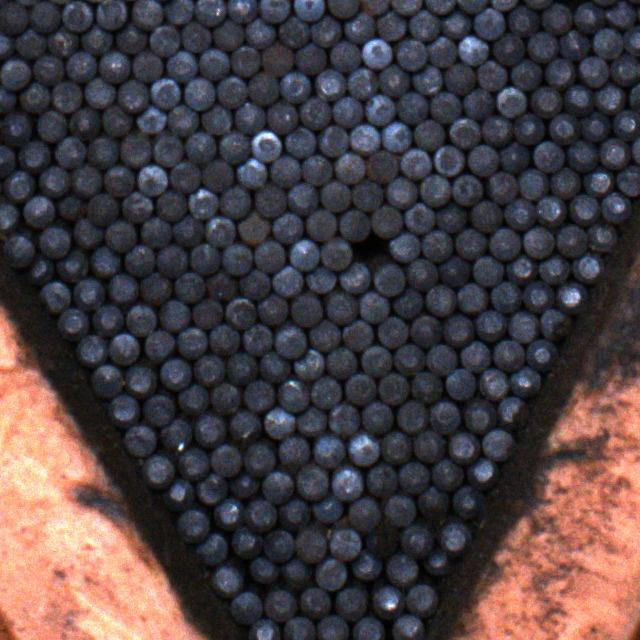tool: (264, 586, 299, 622), (140, 453, 175, 489), (87, 364, 123, 399), (328, 526, 363, 561), (440, 312, 475, 347), (348, 494, 382, 530), (240, 441, 276, 475), (274, 323, 308, 359), (553, 280, 589, 314), (118, 132, 152, 168), (470, 6, 506, 40), (381, 428, 414, 465), (383, 552, 418, 586), (311, 434, 346, 468), (462, 397, 496, 432), (106, 392, 140, 427), (235, 210, 270, 244), (67, 162, 102, 196), (151, 132, 185, 167), (397, 526, 434, 558), (174, 448, 211, 480), (175, 508, 209, 542), (278, 498, 312, 532), (328, 466, 362, 500), (346, 432, 380, 466), (496, 396, 530, 430), (360, 400, 394, 434), (290, 293, 324, 327), (324, 290, 358, 324), (122, 243, 156, 277), (570, 251, 604, 285), (403, 585, 438, 618), (296, 467, 329, 502), (160, 477, 195, 510), (171, 212, 204, 247), (120, 425, 156, 457), (240, 380, 276, 412), (336, 260, 372, 292), (191, 533, 228, 564), (124, 363, 155, 400), (209, 565, 243, 598), (314, 558, 348, 591), (394, 400, 428, 433), (37, 280, 71, 313), (237, 267, 271, 300), (54, 248, 88, 281), (287, 238, 321, 271), (338, 208, 371, 242), (36, 165, 69, 199), (554, 224, 588, 257), (277, 15, 311, 48), (294, 528, 326, 563), (382, 494, 417, 526), (448, 430, 480, 465), (342, 373, 377, 405), (103, 220, 138, 252), (103, 163, 135, 198), (398, 148, 433, 180), (310, 12, 342, 47), (505, 4, 540, 36), (538, 309, 574, 340), (229, 591, 262, 624), (452, 485, 485, 518), (482, 427, 515, 460), (193, 413, 226, 446), (256, 294, 289, 327), (105, 273, 138, 306), (420, 230, 453, 263), (485, 171, 518, 204), (336, 586, 368, 620), (372, 585, 404, 619), (438, 522, 470, 556), (242, 500, 276, 532), (396, 461, 430, 493), (263, 407, 297, 439), (141, 394, 175, 426), (158, 357, 190, 391), (375, 316, 409, 348), (409, 313, 441, 347), (490, 280, 522, 314), (138, 272, 172, 304), (372, 264, 406, 296), (88, 246, 122, 278), (154, 244, 188, 276), (252, 240, 286, 272), (370, 204, 402, 238), (134, 164, 168, 196), (86, 134, 118, 168), (0, 112, 32, 146), (266, 100, 298, 134), (49, 80, 83, 112), (522, 224, 554, 258), (532, 140, 566, 172), (442, 62, 476, 94), (509, 58, 543, 90), (97, 51, 131, 83), (261, 42, 293, 76), (294, 42, 328, 74), (407, 8, 441, 40), (36, 228, 71, 259), (492, 86, 527, 117), (0, 56, 31, 91), (230, 527, 263, 559), (432, 457, 464, 490), (327, 404, 360, 436), (228, 408, 260, 441), (410, 370, 443, 402), (478, 367, 510, 400), (225, 352, 258, 384), (525, 338, 557, 371), (207, 324, 240, 356), (55, 308, 88, 340), (124, 304, 157, 336), (189, 298, 222, 330), (456, 282, 489, 314), (204, 270, 237, 302), (406, 258, 439, 290), (189, 243, 221, 276), (270, 212, 303, 244), (304, 208, 337, 240), (85, 193, 118, 225), (254, 184, 286, 217), (286, 182, 319, 214), (384, 176, 417, 208), (418, 174, 451, 206), (269, 154, 301, 187), (52, 136, 85, 168), (167, 104, 200, 136), (183, 77, 215, 110), (488, 227, 520, 260), (503, 198, 536, 230), (568, 193, 600, 226), (600, 192, 633, 224), (582, 165, 615, 197), (467, 144, 499, 177), (566, 139, 599, 171), (448, 116, 480, 149), (480, 114, 513, 146), (429, 91, 462, 123), (476, 58, 509, 90), (578, 55, 610, 88), (114, 21, 147, 53), (147, 24, 180, 56), (213, 18, 245, 51), (245, 17, 278, 49), (29, 0, 62, 32), (558, 28, 591, 60), (262, 529, 293, 563), (311, 374, 342, 408), (121, 190, 152, 224), (199, 160, 233, 191), (300, 154, 334, 185), (16, 140, 50, 171), (184, 132, 218, 163), (198, 103, 232, 134), (148, 77, 182, 108), (587, 220, 618, 254), (366, 461, 396, 496), (428, 402, 463, 432), (89, 306, 124, 336), (0, 236, 35, 266), (469, 200, 504, 230), (348, 550, 384, 579), (280, 554, 312, 586), (210, 444, 242, 476), (413, 430, 445, 462), (224, 297, 256, 329), (174, 271, 206, 303), (219, 186, 251, 218), (168, 161, 200, 193), (366, 150, 398, 182), (284, 126, 316, 158), (380, 120, 412, 152), (332, 95, 364, 127), (396, 91, 428, 123), (116, 78, 148, 110), (278, 71, 310, 103), (452, 173, 484, 205), (578, 110, 610, 142), (594, 82, 626, 114), (329, 40, 361, 72), (342, 12, 374, 44), (541, 2, 573, 34), (192, 355, 225, 386), (475, 310, 508, 341), (390, 288, 423, 319), (321, 238, 354, 269), (187, 187, 218, 220), (234, 158, 267, 189), (298, 97, 331, 128), (537, 253, 570, 284), (517, 168, 548, 201), (529, 86, 562, 117), (165, 50, 198, 81), (14, 28, 47, 59), (46, 26, 79, 57), (300, 586, 330, 620), (260, 472, 294, 502), (226, 468, 260, 498), (391, 344, 425, 374), (156, 300, 190, 330), (20, 254, 54, 284), (66, 109, 100, 139), (503, 254, 537, 284), (491, 34, 525, 64), (416, 488, 451, 517), (467, 457, 499, 488), (195, 472, 227, 503), (259, 351, 290, 383), (427, 343, 458, 375), (492, 339, 524, 370), (74, 336, 105, 368), (107, 334, 139, 365), (175, 327, 207, 358), (358, 292, 390, 323), (424, 285, 456, 316), (73, 278, 105, 309), (221, 243, 253, 274), (389, 230, 420, 262), (204, 216, 236, 247), (22, 196, 54, 227), (333, 153, 365, 184), (316, 125, 348, 156), (233, 102, 265, 133), (364, 94, 396, 125), (247, 72, 278, 104), (315, 68, 346, 100), (378, 64, 410, 95), (548, 167, 580, 198), (562, 84, 594, 115), (411, 63, 442, 95), (544, 56, 575, 88), (198, 48, 229, 80), (230, 46, 262, 77), (591, 27, 623, 58), (276, 380, 309, 410), (460, 339, 490, 372), (242, 322, 272, 355), (308, 321, 341, 351), (341, 321, 374, 351), (139, 217, 172, 247), (350, 180, 383, 210), (249, 130, 282, 160), (347, 124, 380, 154), (133, 104, 166, 134), (215, 76, 248, 106), (180, 22, 213, 52), (373, 12, 406, 42), (512, 114, 546, 143), (611, 51, 640, 85), (391, 613, 427, 640), (315, 613, 351, 640), (211, 499, 242, 530), (295, 404, 326, 435), (445, 368, 476, 399), (145, 330, 176, 361), (3, 172, 34, 203), (219, 132, 250, 163), (347, 68, 378, 99), (454, 228, 485, 259), (462, 88, 493, 119), (61, 0, 92, 31), (526, 30, 557, 61), (160, 420, 192, 450), (208, 382, 240, 412), (325, 348, 357, 378), (508, 311, 538, 343), (523, 280, 553, 312), (272, 266, 304, 296), (304, 263, 336, 293), (70, 219, 102, 249), (320, 180, 350, 212), (439, 256, 471, 286), (498, 142, 530, 172), (132, 52, 164, 82), (79, 24, 111, 54), (0, 2, 30, 34), (456, 35, 488, 65), (573, 2, 605, 32), (311, 493, 344, 522), (175, 385, 208, 414), (154, 191, 187, 220), (84, 78, 117, 107), (32, 55, 65, 84), (277, 438, 308, 468), (378, 372, 408, 403), (294, 348, 324, 379), (361, 345, 391, 376), (404, 202, 434, 233), (36, 111, 66, 142), (536, 195, 566, 226), (433, 146, 464, 176), (413, 119, 444, 149), (549, 112, 579, 143), (65, 52, 96, 82), (396, 40, 427, 70), (605, 0, 636, 30), (508, 367, 540, 396), (55, 192, 84, 224), (611, 108, 640, 140), (442, 7, 471, 39), (435, 204, 468, 232), (248, 555, 278, 585), (473, 256, 503, 286), (599, 138, 629, 168), (362, 39, 392, 69), (101, 106, 132, 135), (18, 82, 49, 111), (95, 0, 126, 29), (131, 0, 162, 29), (351, 614, 385, 640), (427, 37, 456, 67), (194, 0, 228, 25), (615, 164, 640, 196), (246, 618, 282, 640), (160, 0, 193, 24), (422, 548, 451, 575), (283, 615, 314, 640), (258, 0, 291, 23), (292, 0, 326, 21), (228, 0, 258, 23), (0, 200, 18, 232), (326, 0, 358, 17), (0, 84, 17, 115), (0, 145, 16, 177), (0, 26, 15, 60), (423, 0, 457, 15), (390, 0, 422, 15), (358, 0, 389, 15), (624, 26, 640, 54), (457, 0, 488, 13)
tool_b: (366, 526, 396, 553)
void: (351, 234, 392, 265)
